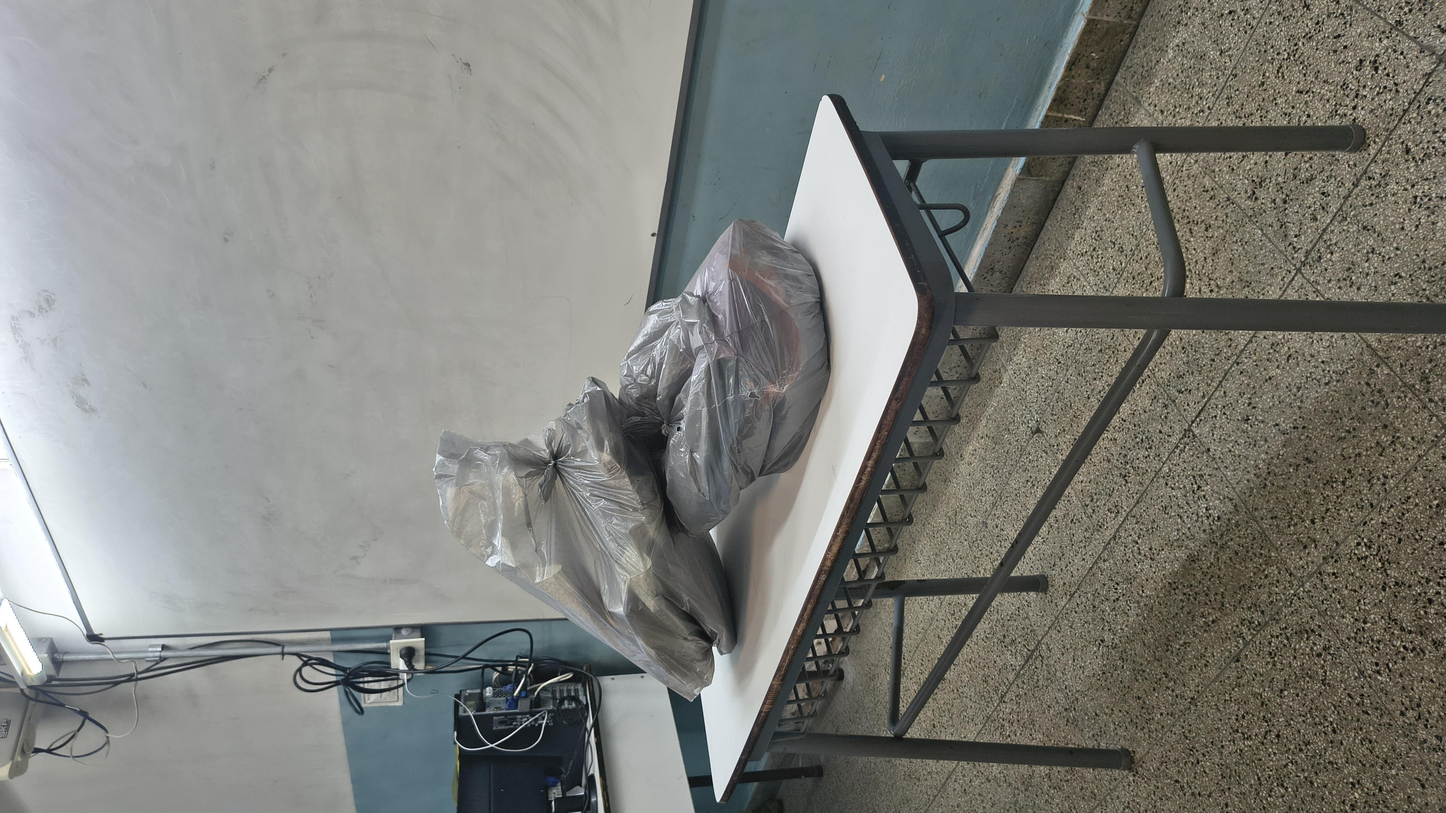Garbage: (182, 232, 753, 453), (452, 333, 1079, 484)
